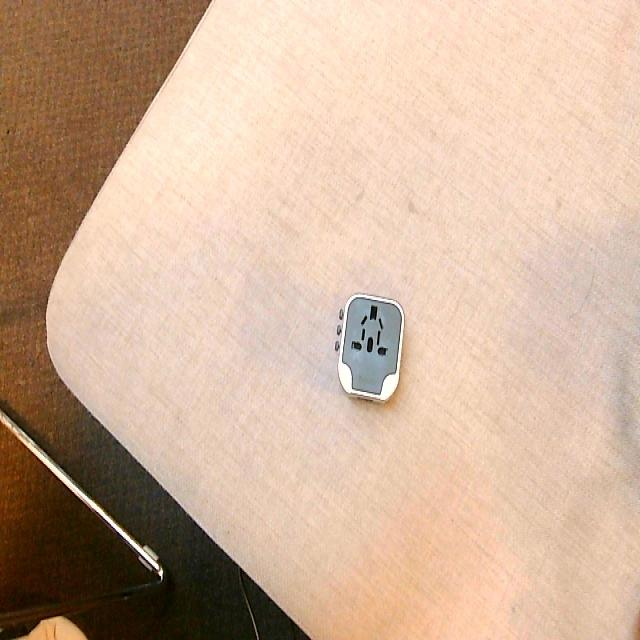adapter: (334, 292, 404, 403)
